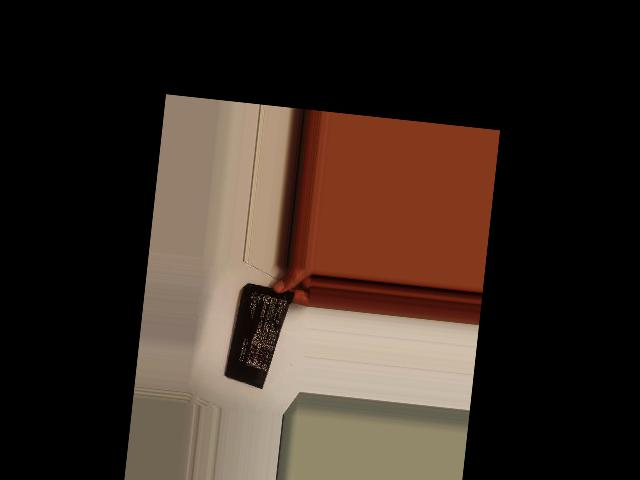chocolate: (222, 281, 298, 394)
